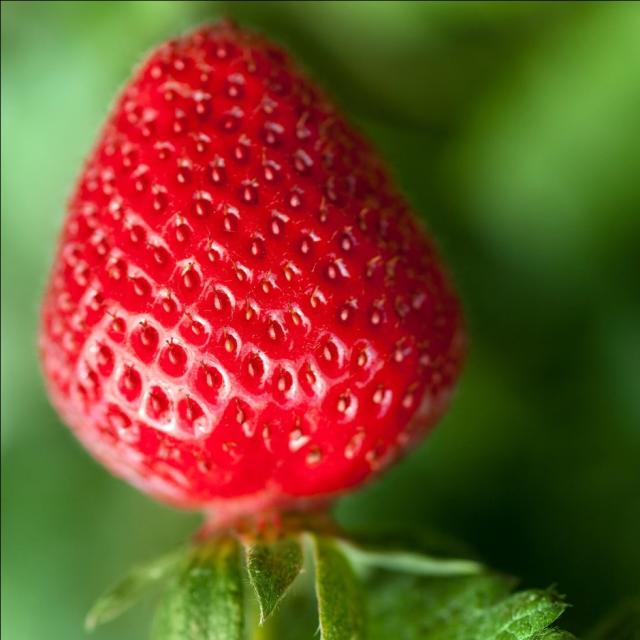strawberry: (0, 0, 489, 567)
